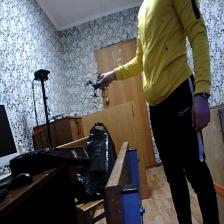drone: (79, 67, 114, 103)
